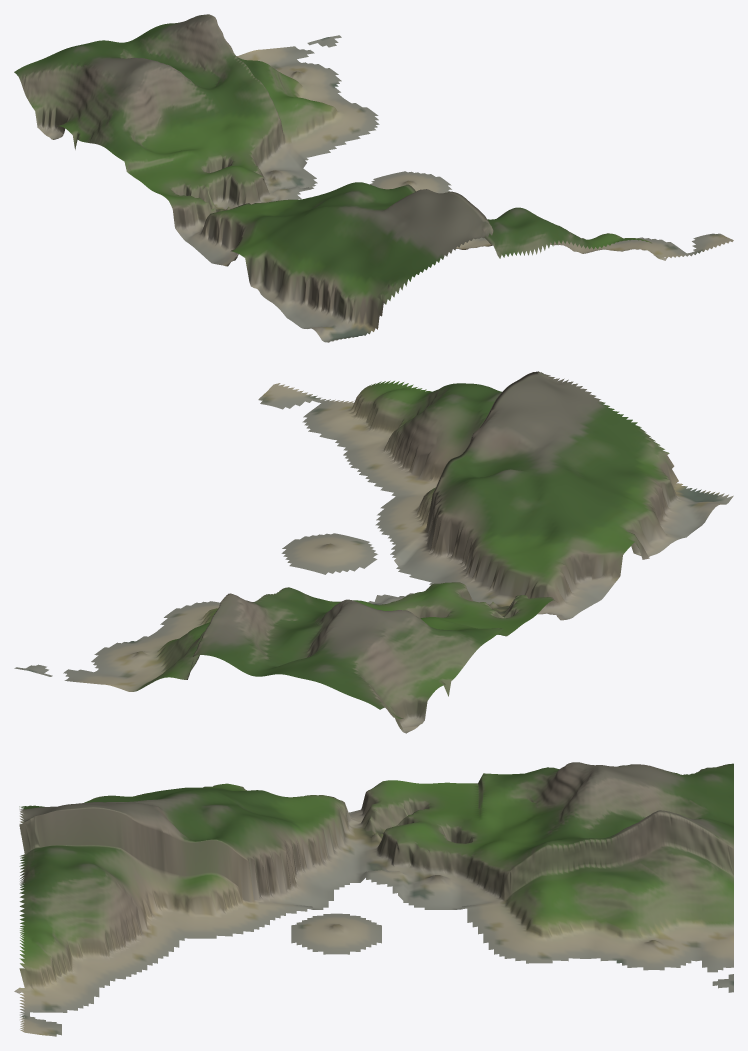
File: coast_tile_x1z1.glb
3 views of the same model, one above another, from view 1: azimuth 30°, elevation 25°; view 2: azimuth 150°, elevation 25°; view 3: azimuth 270°, elevation 25° (orthographic). The views are drawn at different scales.
Visible parts, largest first — view 1: coast_tile_x1z1; view 2: coast_tile_x1z1; view 3: coast_tile_x1z1.
Part boxes in pixels (x1,y1,x2,y2): coast_tile_x1z1: (14,14,733,342); coast_tile_x1z1: (14,371,733,733); coast_tile_x1z1: (14,762,733,1036).
Size of the model in its own units: 602 by 126 by 810.
